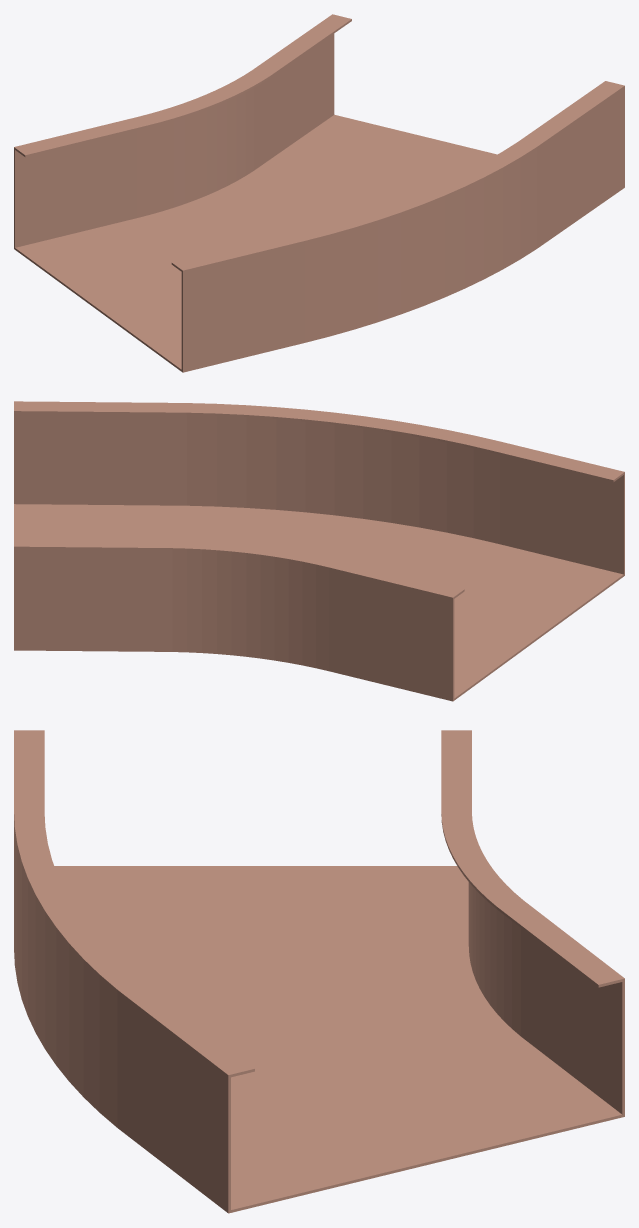
The model's file is elbow30.glb.
The picture shows the model from 3 angles, top to bottom: view 1: azimuth 30°, elevation 25°; view 2: azimuth 150°, elevation 25°; view 3: azimuth 270°, elevation 25°; orthographic projection. The views are drawn at different scales.
Visible parts, largest first — view 1: Mesh_Mesh_head_geo.001_lambert2SG.001; view 2: Mesh_Mesh_head_geo.001_lambert2SG.001; view 3: Mesh_Mesh_head_geo.001_lambert2SG.001.
Boxes of the visible parts, x1,y1,x2,y2 form: Mesh_Mesh_head_geo.001_lambert2SG.001: [14, 14, 624, 372]; Mesh_Mesh_head_geo.001_lambert2SG.001: [14, 401, 624, 701]; Mesh_Mesh_head_geo.001_lambert2SG.001: [14, 730, 624, 1213].
Size of the model in its own units: 53.46 by 10 by 40.03.
